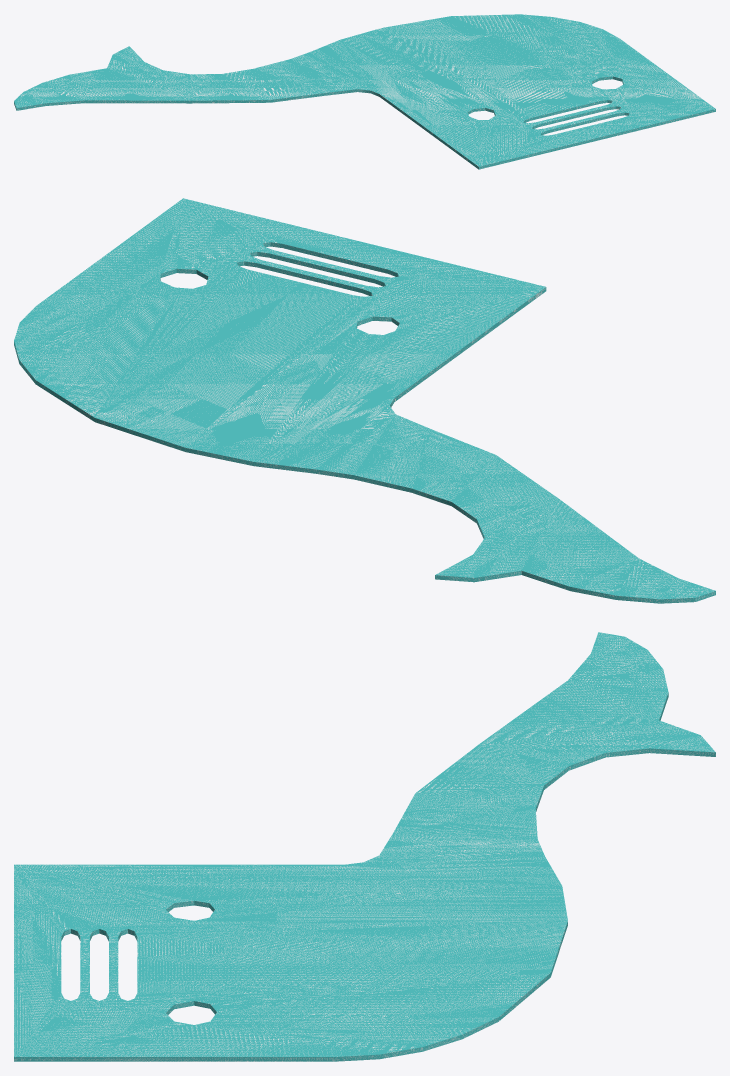
Rendered from original-13.obj.
3 renders of one model, top to bottom at view 1: azimuth 30°, elevation 25°; view 2: azimuth 150°, elevation 25°; view 3: azimuth 270°, elevation 25°, orthographic. The views are drawn at different scales.
Parts seen in each view (by area): view 1: mesh11/mesh11-geometry#mesh11-geometry; view 2: mesh11/mesh11-geometry#mesh11-geometry; view 3: mesh11/mesh11-geometry#mesh11-geometry.
Part boxes in pixels (x1,y1,x2,y2): mesh11/mesh11-geometry#mesh11-geometry: (14, 14, 715, 169); mesh11/mesh11-geometry#mesh11-geometry: (14, 198, 715, 603); mesh11/mesh11-geometry#mesh11-geometry: (14, 632, 715, 1061).
Bounding box in the file's own units: 0.1281 × 0.000658 × 0.0895.
